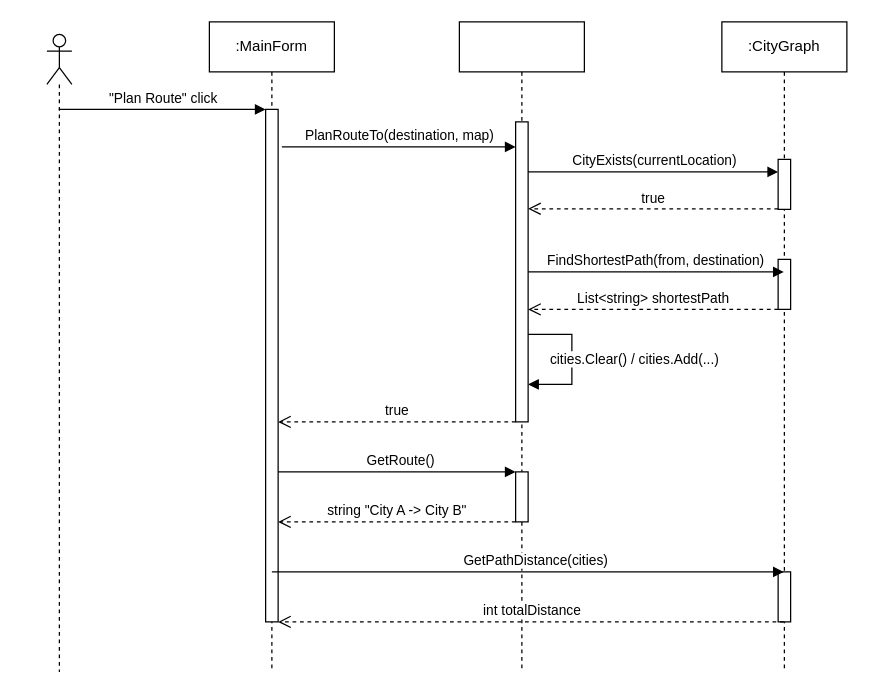
This 869x694 diagram has some shape labels left out. The box of each missing label's shape, as (x1, y1, x2, y2) in pixels:
:Traveler: (458, 21, 584, 672)
User: (46, 33, 72, 672)
